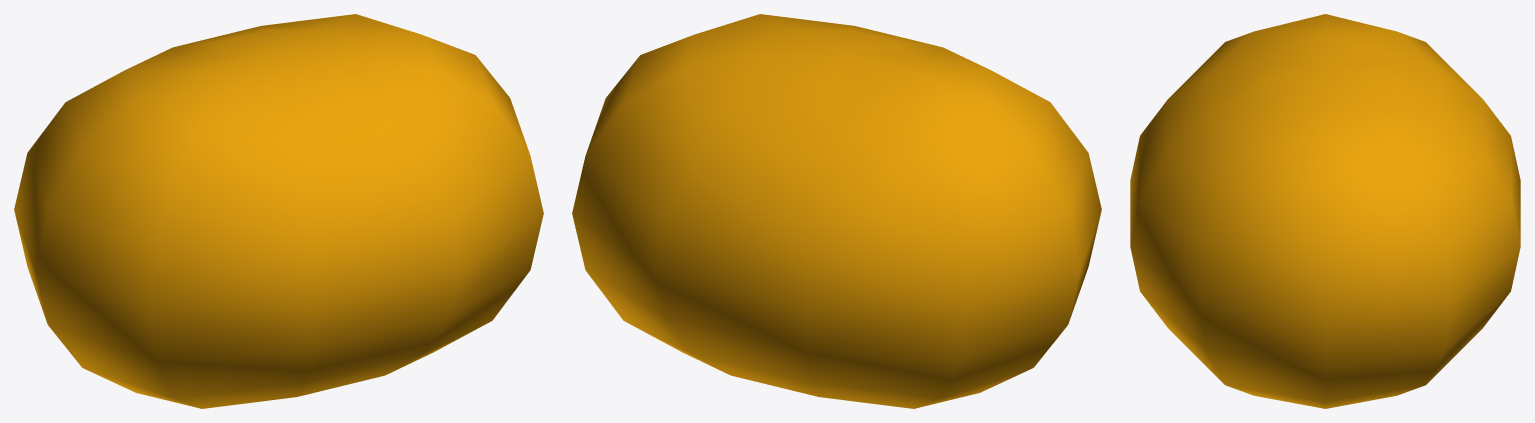
Rendered from pigeon_foot.fbx.
The picture shows the model from 3 angles, left to right: view 1: azimuth 30°, elevation 25°; view 2: azimuth 150°, elevation 25°; view 3: azimuth 270°, elevation 25°; orthographic projection. The views are drawn at different scales.
Parts seen in each view (by area): view 1: pSphere3; view 2: pSphere3; view 3: pSphere3.
Boxes of the visible parts, box(x1,y1,x2,y2) form: pSphere3: box(14, 14, 543, 408); pSphere3: box(572, 14, 1101, 408); pSphere3: box(1130, 14, 1520, 408).
Bounding box in the file's own units: 2.1 × 1.32 × 1.58.
